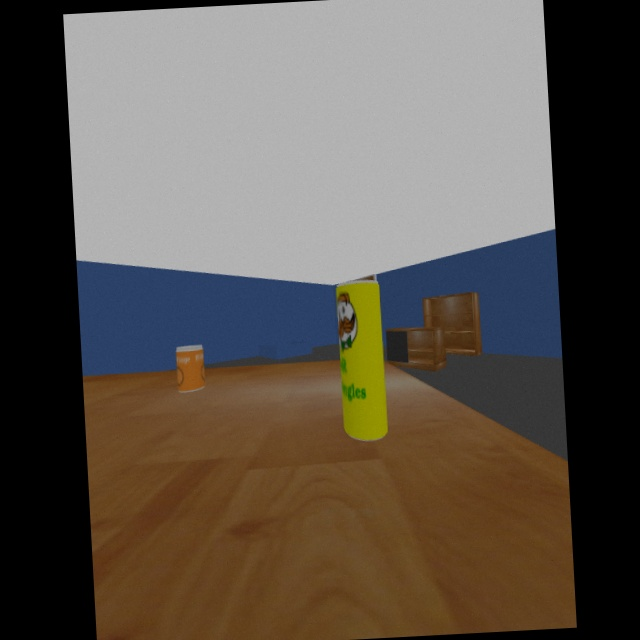chipsdose_gelb: (336, 280, 389, 441)
